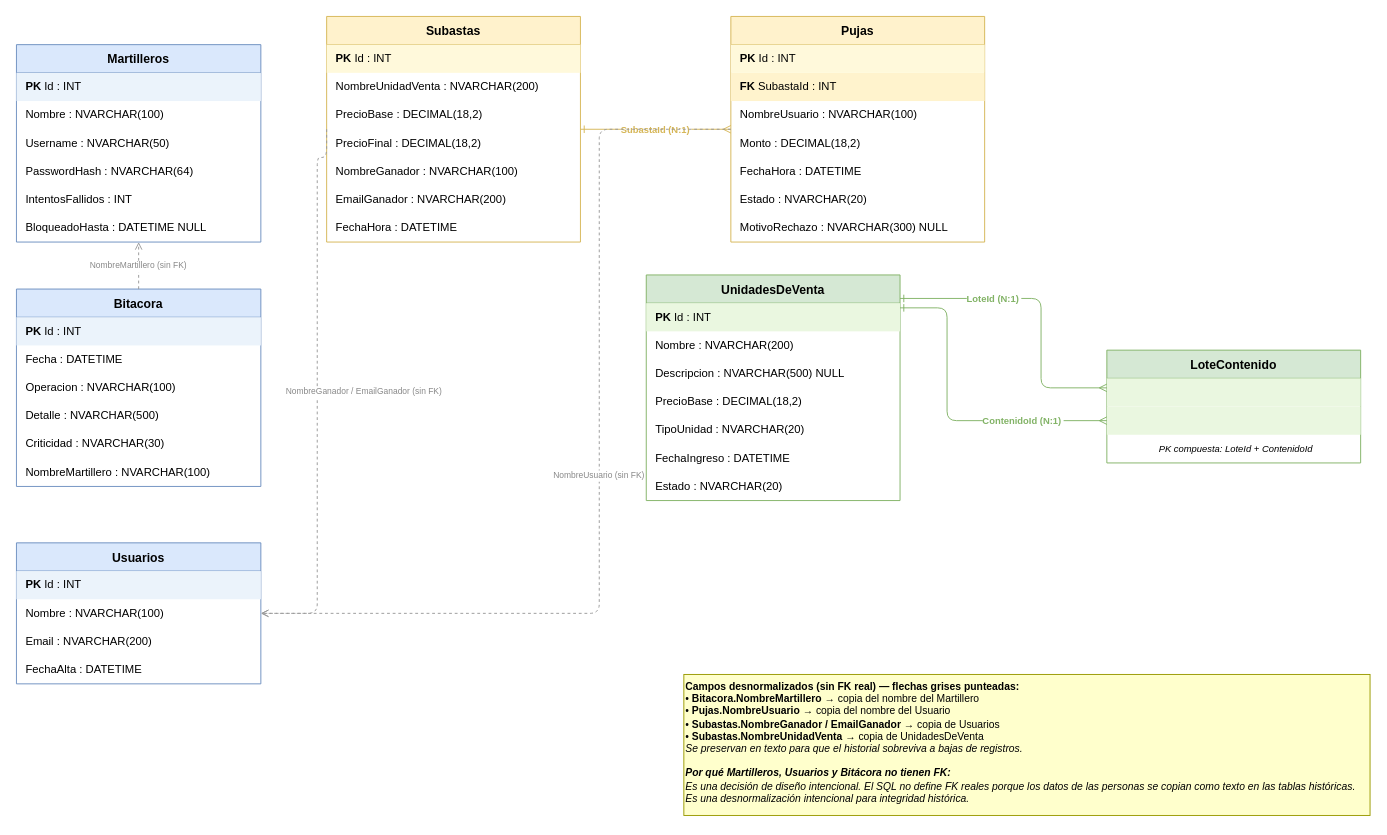
The diagram is 1387 pixels wide and 835 high, and some of its shapes have lost their labels. Here are the shapes that lost their labels. From the top down, the centre of each, then its label:
At [1233,392]: "PK/FK LoteId : INT".
At [1233,420]: "PK/FK ContenidoId : INT".
